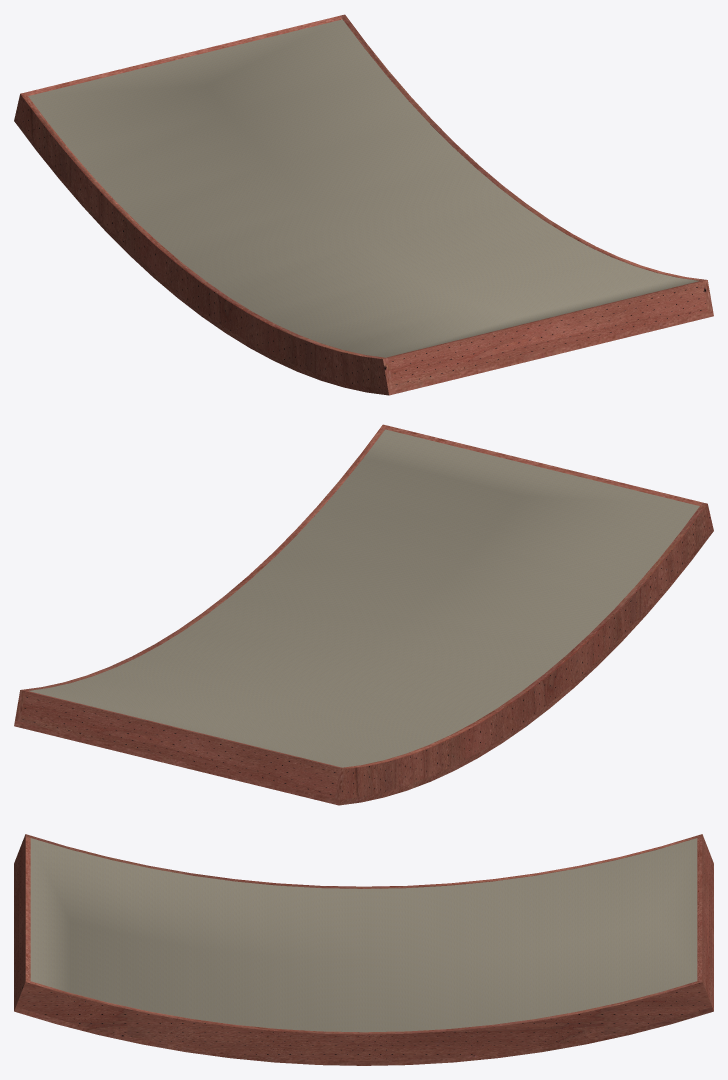
The model's file is MicroCloud.glb.
The picture shows the model from 3 angles, top to bottom: view 1: azimuth 30°, elevation 25°; view 2: azimuth 150°, elevation 25°; view 3: azimuth 270°, elevation 25°; orthographic projection. The views are drawn at different scales.
Visible parts, largest first — view 1: Insulation, Wood; view 2: Insulation, Wood; view 3: Insulation, Wood.
Part boxes in pixels (x1,y1,x2,y2): Insulation: (28,19,698,357); Wood: (14,14,713,395); Insulation: (29,429,699,767); Wood: (14,424,713,805); Insulation: (30,838,697,1032); Wood: (14,834,713,1065).
Size of the model in its own units: 1.22 by 0.323 by 2.44.
Materials: 2 (2 with a texture image).
